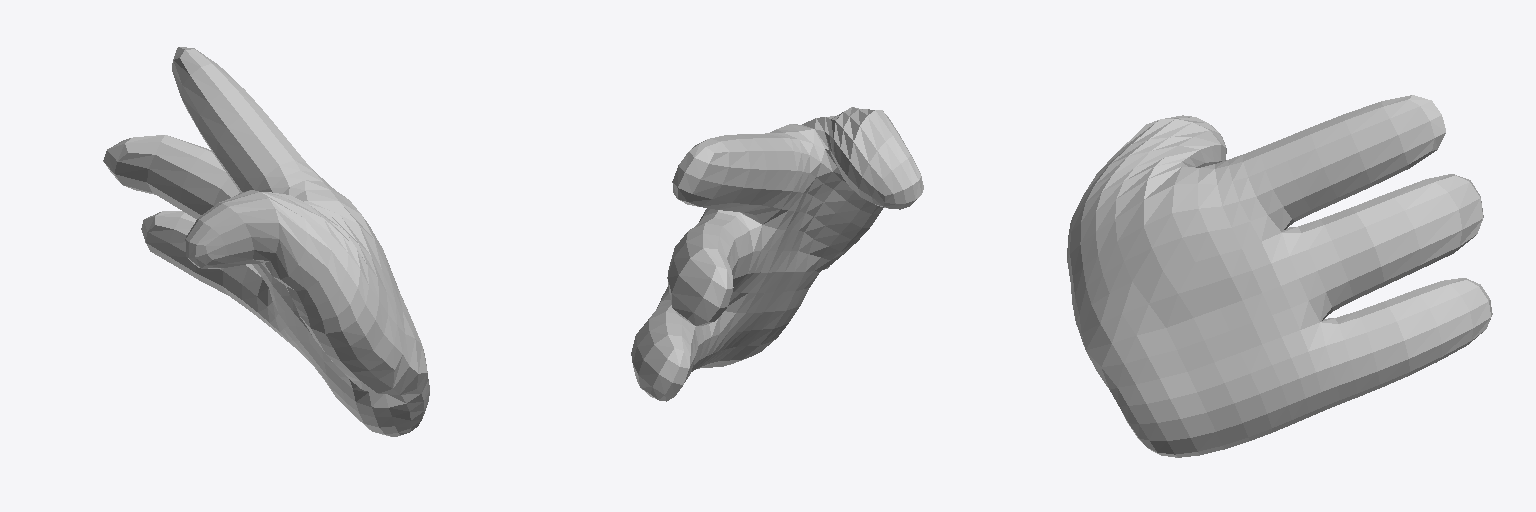
The model's file is 2hands_grab_R.obj.
3 renders of one model, left to right at view 1: azimuth 30°, elevation 25°; view 2: azimuth 150°, elevation 25°; view 3: azimuth 270°, elevation 25°, orthographic.
Parts seen in each view (by area): view 1: hands_grab_r_Cube.002; view 2: hands_grab_r_Cube.002; view 3: hands_grab_r_Cube.002.
Part boxes in pixels (left/top/right/bottom): hands_grab_r_Cube.002: left=103, top=47, right=429, bottom=436; hands_grab_r_Cube.002: left=631, top=107, right=923, bottom=401; hands_grab_r_Cube.002: left=1067, top=95, right=1492, bottom=457.
Size of the model in its own units: 1.61 by 2.2 by 2.68.